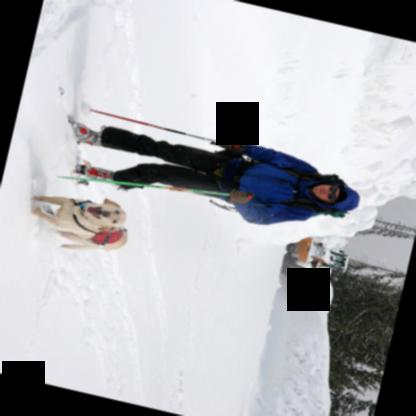backpack: (273, 167, 350, 220)
